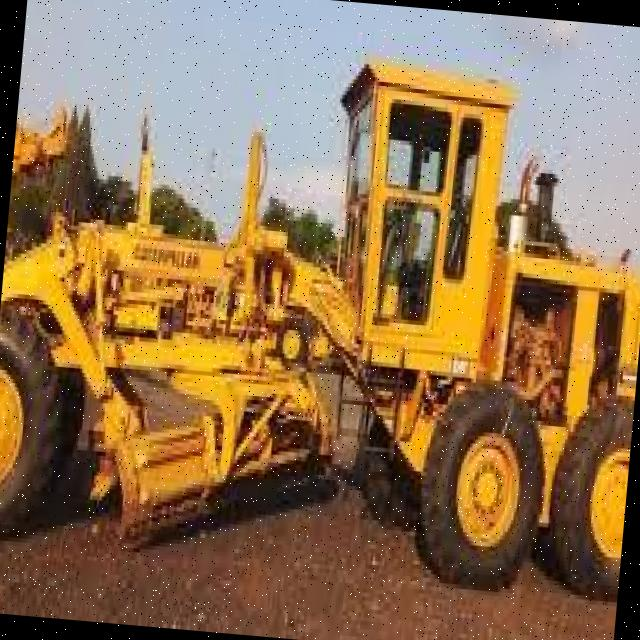Grader: (0, 1, 640, 626)
